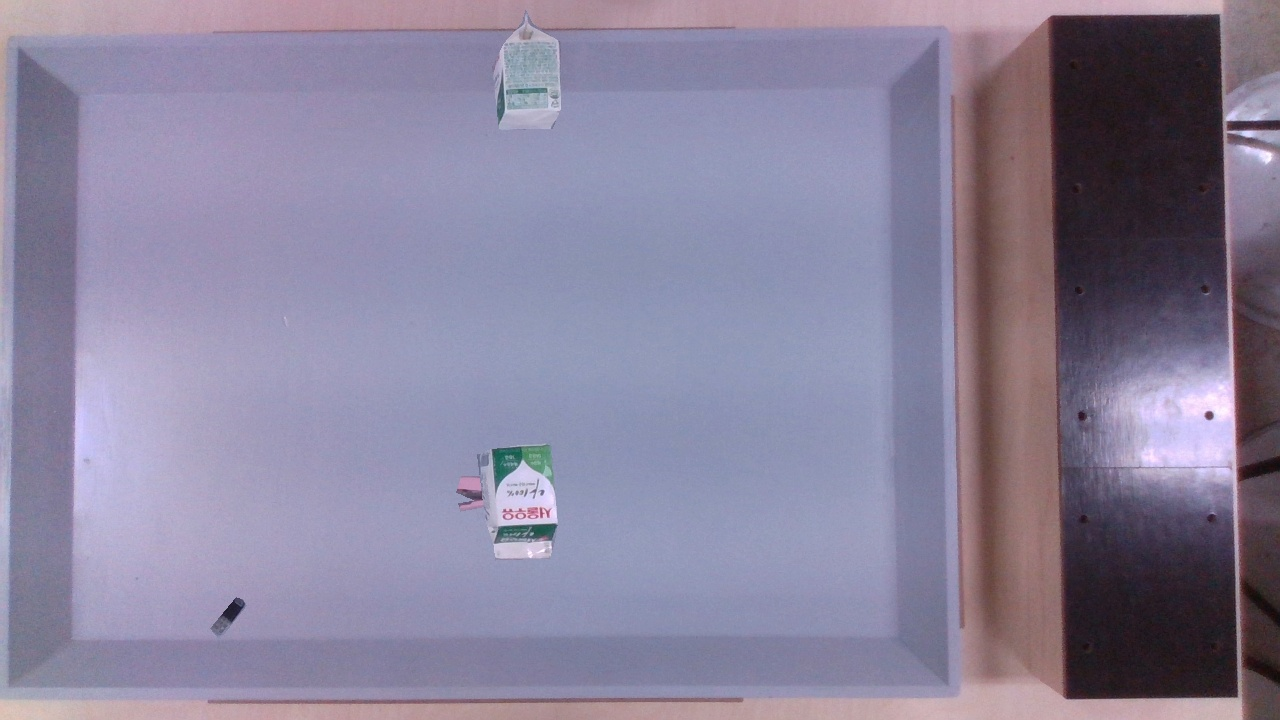Milk: (477, 10, 560, 560)
Stapler_pink: (456, 476, 482, 511)
Usb_small: (210, 597, 246, 639)
